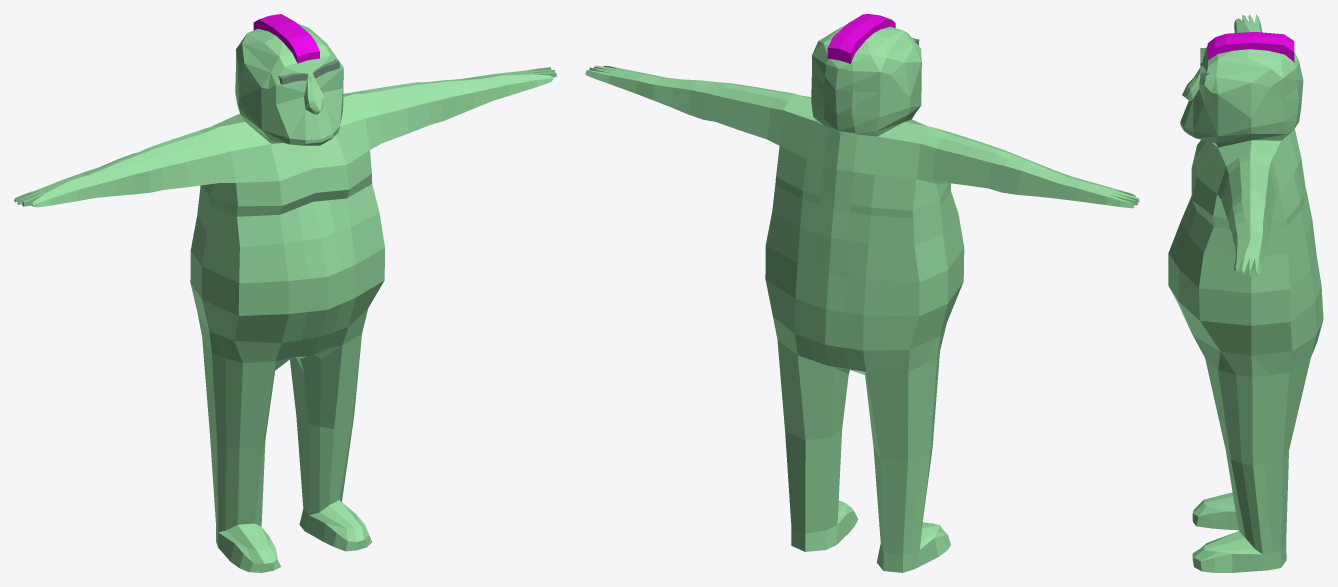
The model's file is Goblin.fbx.
3 views of the same model, side by side, from view 1: azimuth 30°, elevation 25°; view 2: azimuth 150°, elevation 25°; view 3: azimuth 270°, elevation 25° (orthographic). The views are drawn at different scales.
Visible parts, largest first — view 1: Goblin; view 2: Goblin; view 3: Goblin.
Boxes of the visible parts, box(x1,y1,x2,y2) form: Goblin: box(14, 14, 556, 572); Goblin: box(585, 14, 1139, 572); Goblin: box(1168, 14, 1323, 572).
Bounding box in the file's own units: 2.8 × 2.55 × 0.7087.
